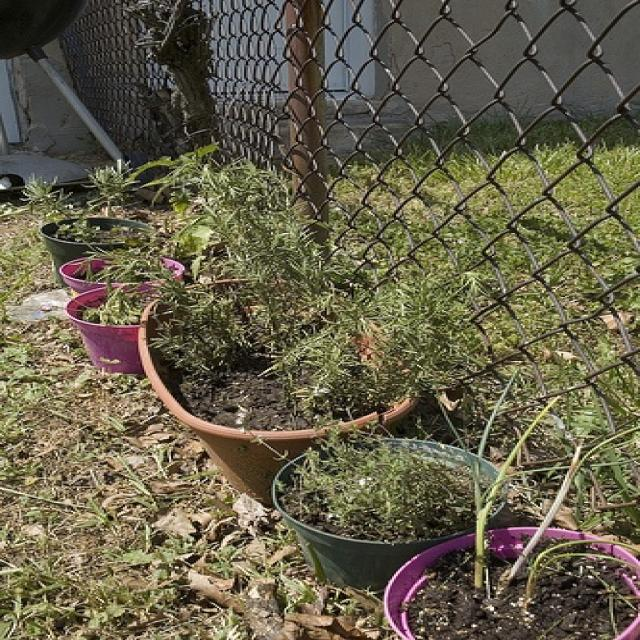pottedplant: (142, 152, 494, 498), (267, 435, 517, 589), (379, 516, 638, 639), (13, 165, 162, 251), (52, 282, 150, 371), (54, 251, 190, 288)
